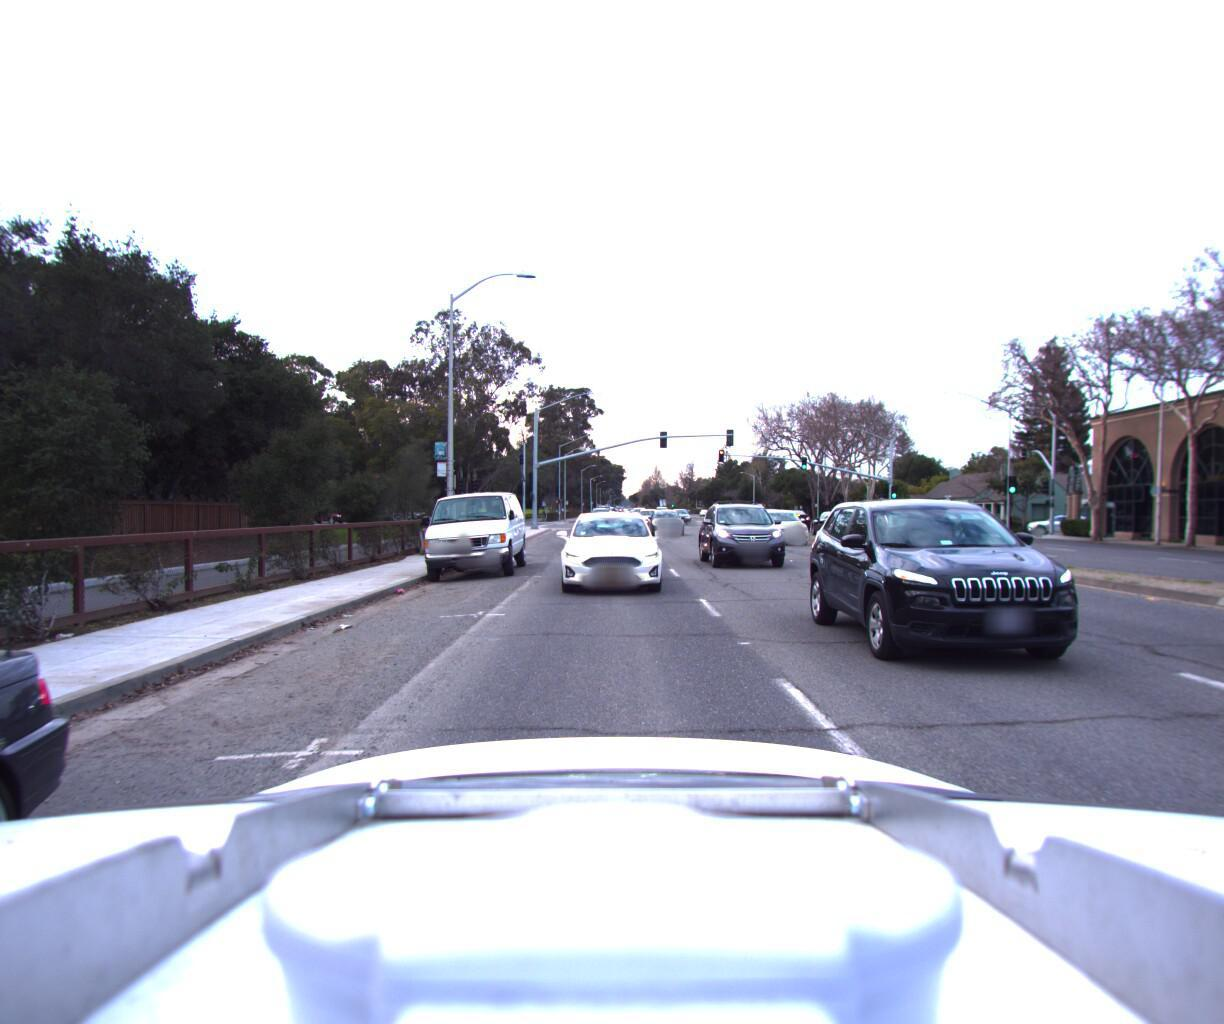car: (827, 456, 1217, 720), (559, 507, 664, 595), (702, 494, 799, 573), (754, 508, 827, 548), (825, 503, 893, 539), (806, 507, 861, 534), (1021, 510, 1092, 531), (638, 503, 680, 534), (632, 507, 662, 528), (592, 497, 612, 513)
truck: (413, 482, 528, 581)
